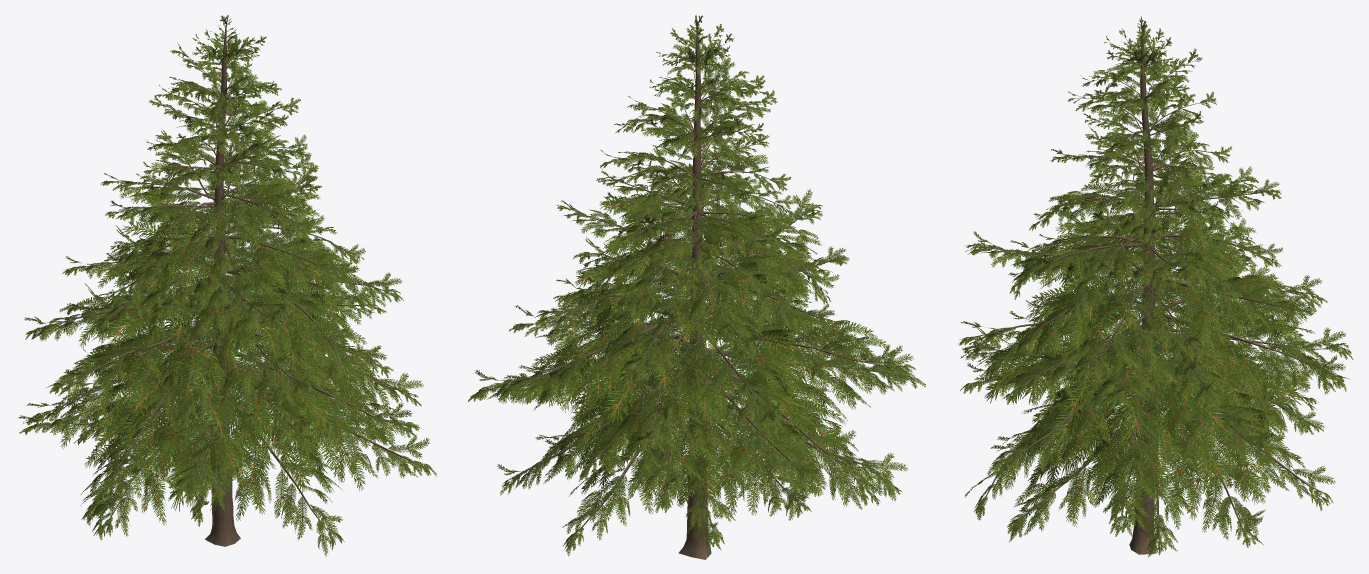
File: pine_tree_fbx_4k.glb
The picture shows the model from 3 angles, left to right: view 1: azimuth 30°, elevation 25°; view 2: azimuth 150°, elevation 25°; view 3: azimuth 270°, elevation 25°; orthographic projection.
Parts seen in each view (by area): view 1: Pine_Texture_2, pine_bark_diff_4k; view 2: Pine_Texture_2, pine_bark_diff_4k; view 3: Pine_Texture_2, pine_bark_diff_4k.
Part boxes in pixels (x1,y1,x2,y2): Pine_Texture_2: (18, 15, 436, 556); pine_bark_diff_4k: (37, 18, 414, 546); Pine_Texture_2: (468, 15, 926, 556); pine_bark_diff_4k: (489, 18, 898, 559); Pine_Texture_2: (957, 16, 1353, 557); pine_bark_diff_4k: (976, 22, 1331, 554).
Size of the model in its own units: 15.77 by 20.87 by 14.18.
2 materials, 2 textured.
